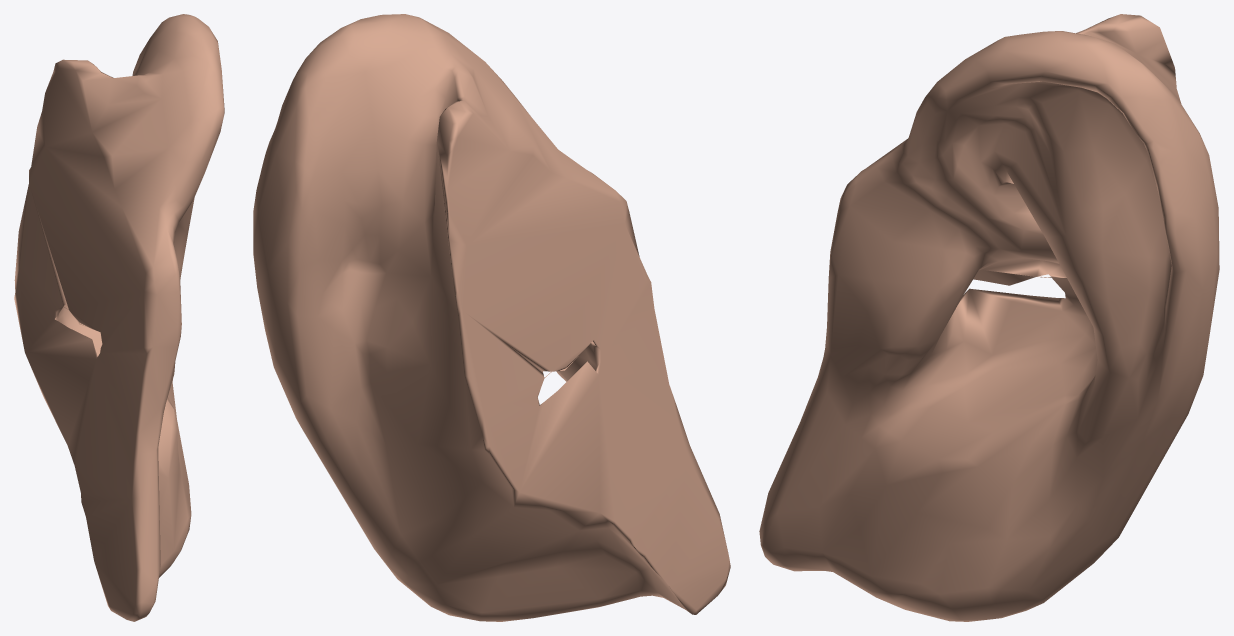
File: ear.glb
3 renders of one model, left to right at view 1: azimuth 30°, elevation 25°; view 2: azimuth 150°, elevation 25°; view 3: azimuth 270°, elevation 25°, orthographic. The views are drawn at different scales.
Parts seen in each view (by area): view 1: FJ2811 · subdivision of head; view 2: FJ2811 · subdivision of head; view 3: FJ2811 · subdivision of head.
Part boxes in pixels (x1,y1,x2,y2): FJ2811 · subdivision of head: (14, 14, 224, 621); FJ2811 · subdivision of head: (253, 14, 730, 621); FJ2811 · subdivision of head: (759, 14, 1219, 621).
Bounding box in the file's own units: 1.56 × 3.35 × 2.18.
